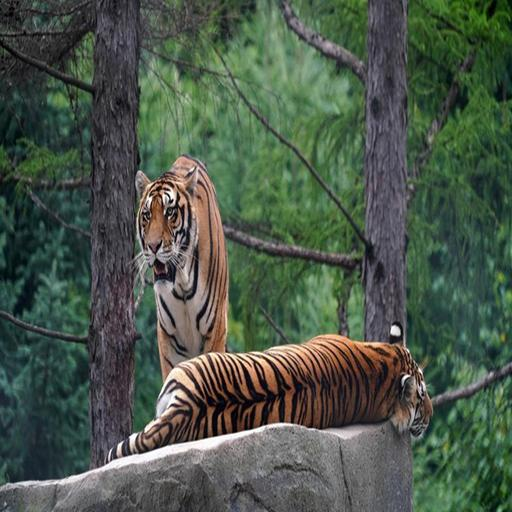Tiger: (88, 320, 448, 470), (119, 146, 235, 472)
